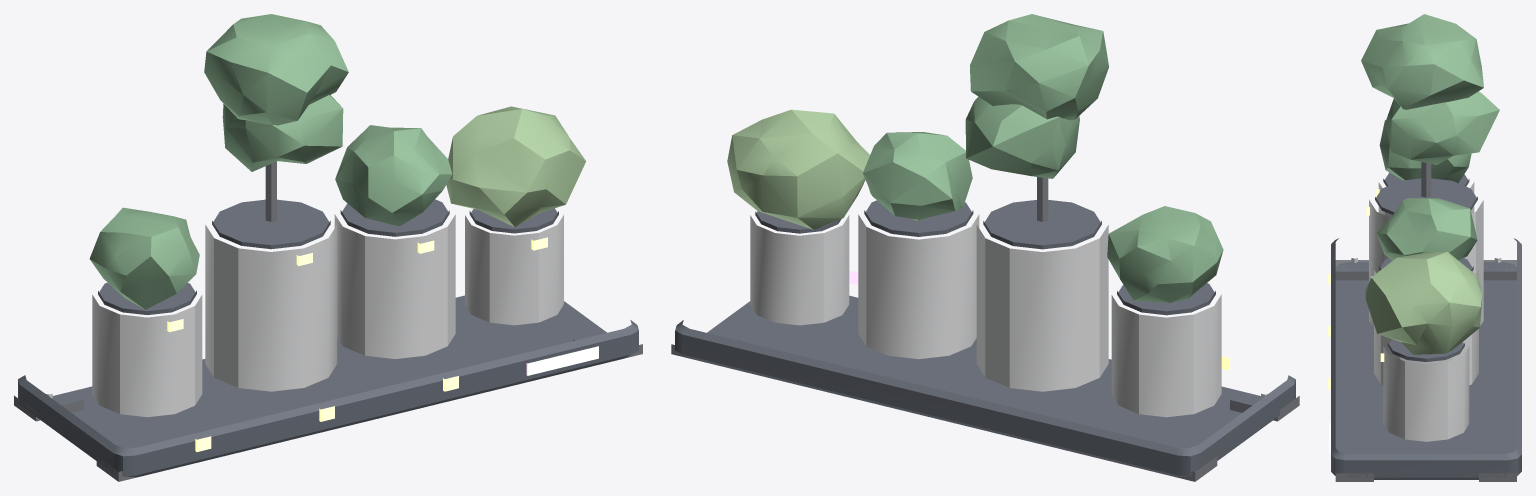
File: potted_plants_shared_tray.glb
3 renders of one model, left to right at view 1: azimuth 30°, elevation 25°; view 2: azimuth 150°, elevation 25°; view 3: azimuth 270°, elevation 25°, orthographic. The views are drawn at different scales.
Visible parts, largest first — view 1: Pots, Tray, Foliage, Foliage_Light, Grow_Lids, Water_Gauge, Floor_Clamps, Pot_Latches, Stems; view 2: Pots, Tray, Foliage, Foliage_Light, Grow_Lids, Floor_Clamps; view 3: Tray, Foliage, Pots, Foliage_Light, Grow_Lids, Floor_Clamps, Stems.
Part boxes in pixels (x1,y1,x2,y2): Pots: (92,214,563,417); Tray: (18,295,638,477); Foliage: (89,14,452,309); Foliage_Light: (446,106,585,227); Grow_Lids: (98,199,558,315); Water_Gauge: (526,346,598,375); Floor_Clamps: (14,340,642,481); Pot_Latches: (167,237,547,332); Stems: (265,161,276,221); Pots: (750,214,1221,417); Tray: (675,295,1295,477); Foliage: (863,14,1223,302); Foliage_Light: (727,109,869,229); Grow_Lids: (755,200,1215,315); Floor_Clamps: (671,340,1299,481); Tray: (1331,238,1521,479); Foliage: (1361,14,1499,260); Pots: (1369,182,1483,441); Foliage_Light: (1365,251,1482,354); Grow_Lids: (1375,172,1477,361); Floor_Clamps: (1335,260,1516,481); Stems: (1421,162,1431,197).
Size of the model in its own units: 1.1 by 0.734 by 0.406.
